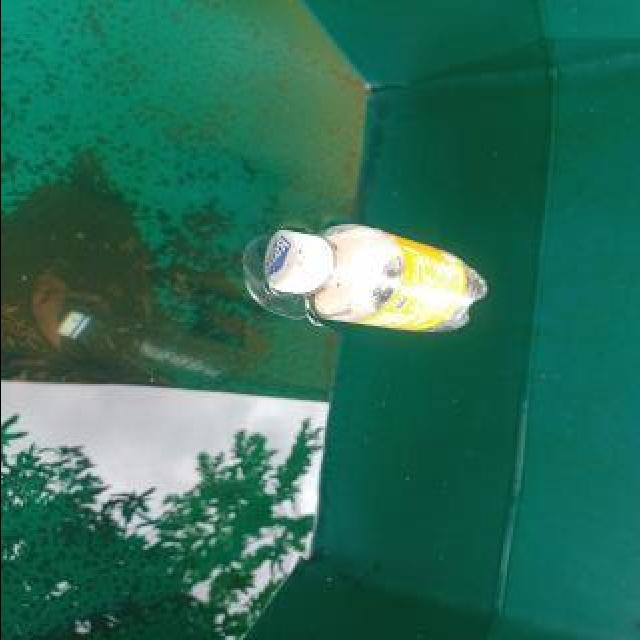Bottle: (255, 213, 496, 339)
